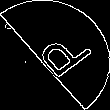P_SW: (21, 25, 89, 85)
